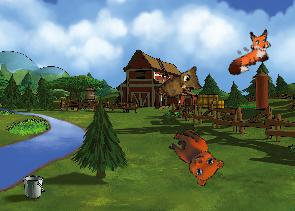bear: (158, 124, 229, 190)
fox: (218, 25, 279, 78)
owl: (154, 61, 208, 112)
